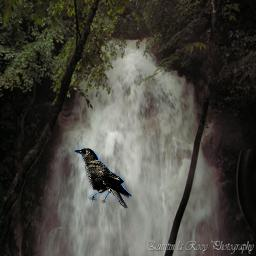Crow: (71, 147, 132, 209)
